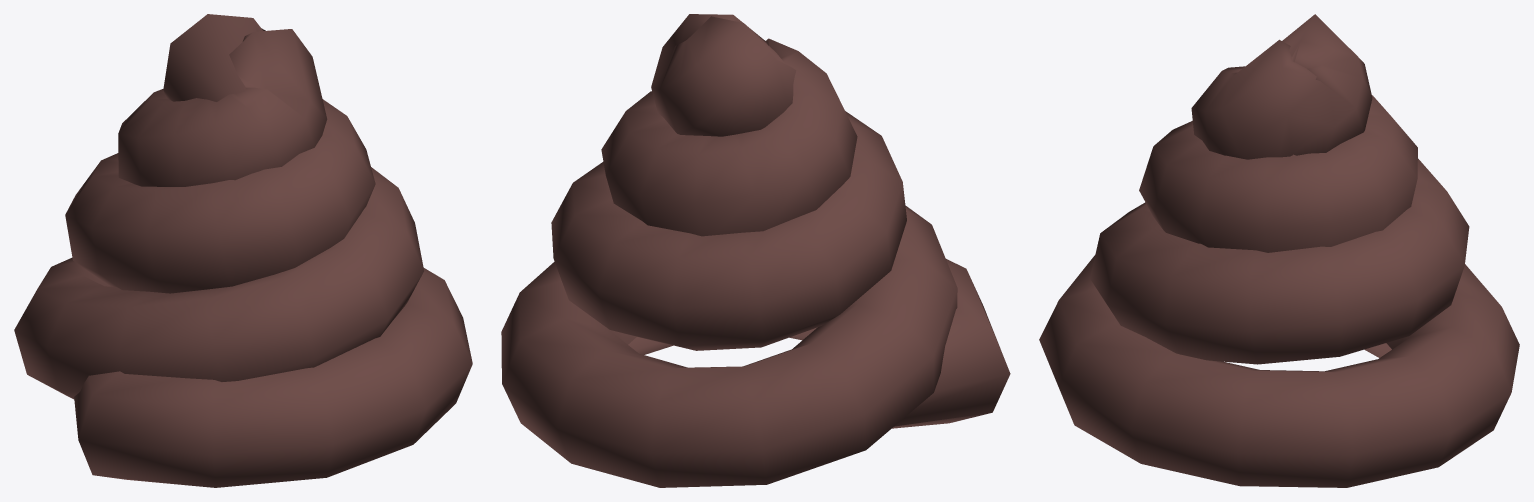
File: coco.fbx
3 views of the same model, side by side, from view 1: azimuth 30°, elevation 25°; view 2: azimuth 150°, elevation 25°; view 3: azimuth 270°, elevation 25° (orthographic). The views are drawn at different scales.
Parts seen in each view (by area): view 1: Spiral; view 2: Spiral; view 3: Spiral.
Boxes of the visible parts, box(x1,y1,x2,y2) form: Spiral: box(14, 14, 472, 487); Spiral: box(501, 14, 1010, 487); Spiral: box(1039, 14, 1519, 487).
Size of the model in its own units: 1.42 by 1.3 by 1.43.
